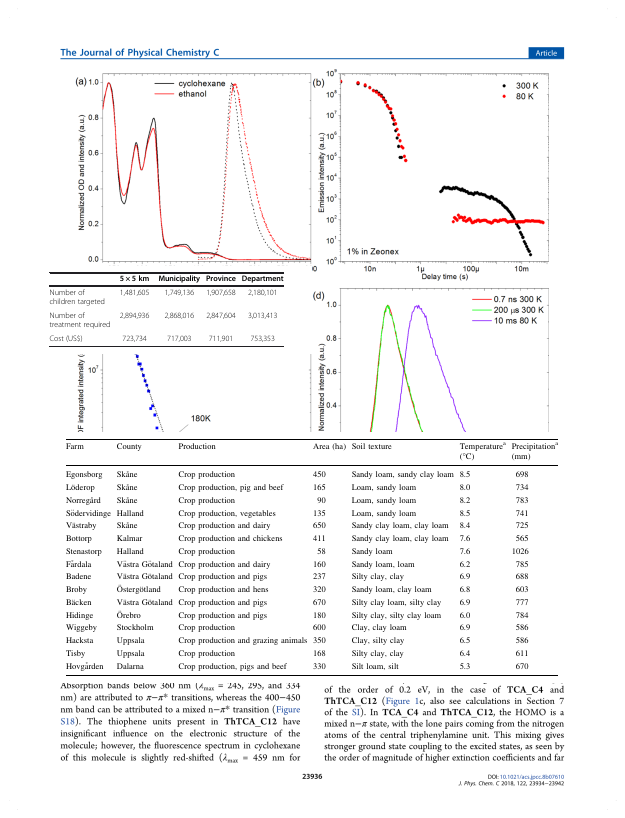borderless: (65, 437, 558, 675), (48, 271, 284, 346)
cell: (177, 636, 308, 646), (49, 311, 111, 329), (177, 662, 287, 672), (458, 440, 507, 462), (510, 440, 559, 462), (177, 483, 284, 493), (177, 534, 283, 544), (350, 471, 455, 481), (49, 288, 106, 306), (177, 509, 276, 519), (350, 522, 449, 532), (350, 534, 449, 544), (177, 522, 271, 532), (177, 560, 271, 570), (177, 585, 269, 595), (350, 598, 442, 608), (350, 611, 442, 621), (177, 573, 268, 583), (177, 598, 268, 608), (177, 611, 268, 621), (350, 585, 432, 595), (350, 483, 417, 493), (350, 496, 417, 506), (350, 509, 417, 519), (350, 560, 415, 570), (177, 471, 236, 481), (177, 496, 236, 506), (177, 547, 236, 557), (177, 624, 236, 634), (177, 649, 236, 659), (115, 560, 173, 570), (115, 573, 173, 583), (115, 598, 173, 608), (350, 624, 407, 634), (350, 636, 405, 646), (350, 573, 404, 583), (350, 649, 404, 659), (115, 584, 161, 595), (350, 662, 399, 672), (65, 509, 112, 519), (350, 547, 393, 557), (350, 442, 392, 452), (157, 275, 201, 284), (177, 442, 216, 452), (115, 624, 154, 634), (65, 662, 104, 672), (241, 275, 284, 284), (65, 471, 103, 481), (65, 547, 102, 557), (65, 496, 101, 506), (312, 442, 347, 452), (65, 624, 98, 634), (65, 522, 97, 532), (163, 288, 195, 298), (205, 288, 237, 298), (49, 334, 84, 343), (115, 609, 141, 621), (119, 288, 150, 298), (247, 288, 278, 298), (65, 483, 95, 493), (115, 636, 145, 646), (115, 649, 145, 659), (115, 509, 144, 519), (115, 547, 144, 557), (65, 611, 94, 621), (65, 636, 94, 646), (115, 662, 144, 672), (205, 275, 237, 284), (163, 311, 195, 320), (205, 311, 237, 320), (115, 534, 143, 544), (119, 275, 150, 284), (119, 311, 150, 320), (247, 311, 278, 320), (115, 442, 142, 452), (65, 534, 92, 544), (65, 560, 92, 570), (65, 573, 92, 583), (65, 598, 92, 608), (115, 470, 138, 481), (115, 521, 138, 532), (121, 334, 148, 343), (249, 334, 276, 343), (166, 334, 192, 343), (208, 334, 234, 343), (115, 483, 138, 493), (115, 496, 138, 506), (65, 585, 88, 595), (65, 649, 86, 659), (64, 442, 84, 452), (510, 547, 529, 557), (514, 471, 529, 481), (514, 483, 529, 493), (514, 496, 529, 506), (514, 509, 529, 519), (514, 522, 529, 532), (514, 534, 529, 544), (514, 560, 529, 570), (514, 573, 529, 583), (514, 585, 529, 595), (514, 598, 529, 608), (514, 611, 529, 621), (514, 624, 529, 634), (514, 636, 529, 646), (514, 649, 529, 659), (514, 662, 529, 672), (312, 471, 326, 481), (312, 483, 326, 493), (312, 509, 326, 519), (312, 522, 326, 532), (312, 534, 326, 544), (312, 560, 326, 570), (312, 573, 326, 583), (312, 585, 326, 595), (312, 598, 326, 608), (312, 611, 326, 621), (312, 624, 326, 634), (312, 636, 326, 646), (312, 649, 326, 659), (312, 662, 326, 672), (458, 471, 471, 481), (458, 483, 471, 493), (458, 496, 471, 506), (458, 509, 471, 519), (458, 522, 471, 532), (458, 534, 471, 544), (458, 547, 471, 557), (458, 560, 471, 570), (458, 573, 471, 583), (458, 585, 471, 595), (458, 598, 471, 608), (458, 611, 471, 621), (458, 624, 471, 634), (458, 636, 471, 646), (458, 649, 471, 659), (458, 662, 471, 672), (316, 496, 326, 506), (316, 547, 326, 557)
